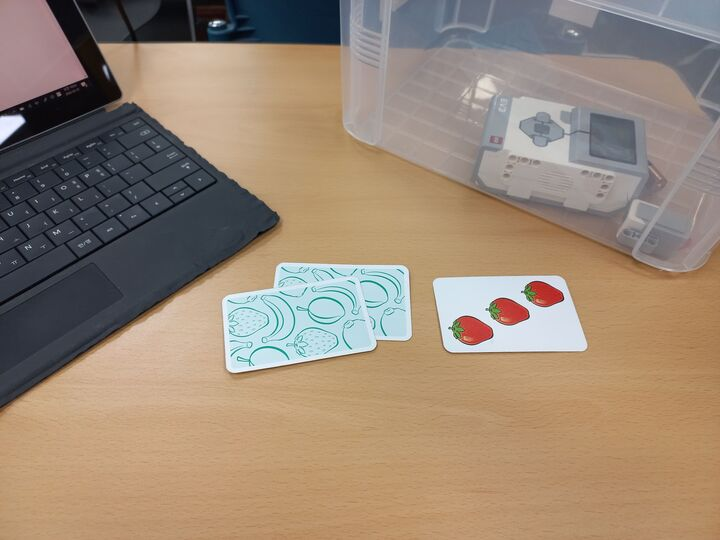strawberry3: (431, 274, 588, 355)
